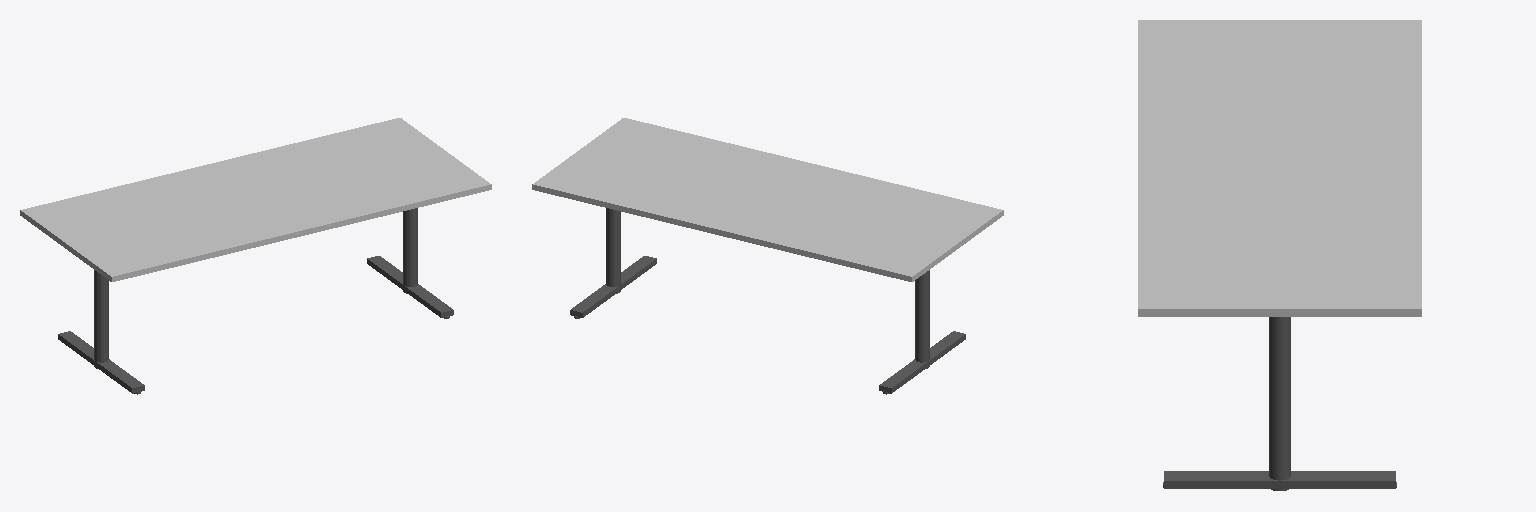
The robot description file, URDF, robot "short_table":
<robot name="short_table">
  <link name="base_link">
    <!-- NOTE: Collision geometry is simplified: just three boxes. -->
    <!-- Tabletop Collision Geometry -->
    <collision>
      <origin xyz="0 0 0.59355"/>
      <geometry>
        <box size="1.8288 0.762 0.02575"/>
      </geometry>
    </collision>
    <!-- Left Leg Collision Geometry -->
    <collision>
      <origin xyz="0.7444 0 0.296775"/>
      <geometry>
        <box size="0.06 0.62 0.59355"/>
      </geometry>
    </collision>
    <!-- Right Leg Collision Geometry -->
    <collision>
      <origin xyz="-0.7444 0 0.296775"/>
      <geometry>
        <box size="0.06 0.62 0.59355"/>
      </geometry>
    </collision>
    <!-- NOTE: Visual Geometry is more detailed than collision geometry. -->
    <!-- Tabletop Visual Geometry -->
    <visual>
      <origin xyz="0 0 0.59355"/>
      <geometry>
        <box size="1.8288 0.762 0.02575"/>
      </geometry>
      <material name="gray">
        <color rgba="0.8 0.8 0.8 1.0"/>
      </material>
    </visual>
    <!-- Left Leg Visual Geometry -->
    <visual>
      <origin xyz="0.7444 0 0.296775"/>
      <geometry>
        <cylinder radius="0.03" length="0.59355"/>
      </geometry>
      <material name="dark_gray">
        <color rgba="0.4 0.4 0.4 1.0"/>
      </material>
    </visual>
    <!-- Right Leg Visual Geometry -->
    <visual>
      <origin xyz="-0.7444 0 0.296775"/>
      <geometry>
        <cylinder radius="0.03" length="0.59355"/>
      </geometry>
      <material name="dark_gray">
        <color rgba="0.4 0.4 0.4 1.0"/>
      </material>
    </visual>
    <!-- Left table foot -->
    <visual>
      <origin xyz="0.7444 0 0.02"/>
      <geometry>
        <box size="0.06 0.62 0.025"/>
      </geometry>
      <material name="dark_gray">
        <color rgba="0.4 0.4 0.4 1.0"/>
      </material>
    </visual>
    <visual>
      <origin xyz="0.7444 0.30 0.005"/>
      <geometry>
        <cylinder radius="0.015" length="0.01"/>
      </geometry>
      <material name="dark_gray">
        <color rgba="0.4 0.4 0.4 1.0"/>
      </material>
    </visual>
    <visual>
      <origin xyz="0.7444 -0.30 0.005"/>
      <geometry>
        <cylinder radius="0.015" length="0.01"/>
      </geometry>
      <material name="dark_gray">
        <color rgba="0.4 0.4 0.4 1.0"/>
      </material>
    </visual>
    <!-- Right table foot -->
    <visual>
      <origin xyz="-0.7444 0 0.02"/>
      <geometry>
        <box size="0.06 0.62 0.025"/>
      </geometry>
      <material name="dark_gray">
        <color rgba="0.4 0.4 0.4 1.0"/>
      </material>
    </visual>
    <visual>
      <origin xyz="-0.7444 0.30 0.005"/>
      <geometry>
        <cylinder radius="0.015" length="0.01"/>
      </geometry>
      <material name="dark_gray">
        <color rgba="0.4 0.4 0.4 1.0"/>
      </material>
    </visual>
    <visual>
      <origin xyz="-0.7444 -0.30 0.005"/>
      <geometry>
        <cylinder radius="0.015" length="0.01"/>
      </geometry>
      <material name="dark_gray">
        <color rgba="0.4 0.4 0.4 1.0"/>
      </material>
    </visual>
  </link>
</robot>

--- What the picture shows (computed from the rendered views, not written in the file) ---
Views: 3 orthographic renders of the robot side by side, from view 1: azimuth 30°, elevation 25°; view 2: azimuth 150°, elevation 25°; view 3: azimuth 270°, elevation 25°.
Robot: short_table — 1 links, 0 joints (none); root link base_link; default pose: every joint at zero.
Visible links, largest first — view 1: base_link; view 2: base_link; view 3: base_link.
Link boxes in pixels (x1,y1,x2,y2): base_link: [20, 118, 491, 394]; base_link: [532, 118, 1003, 394]; base_link: [1138, 20, 1421, 490].
Size in the robot's own frame: 1.83 by 0.762 by 0.6064 metres.
Geometry: primitives only (box / cylinder / sphere), no mesh files.